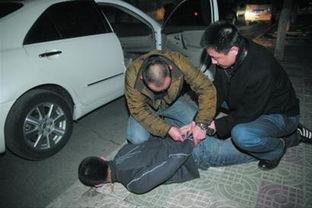Fall-Detected: (72, 115, 271, 198)
